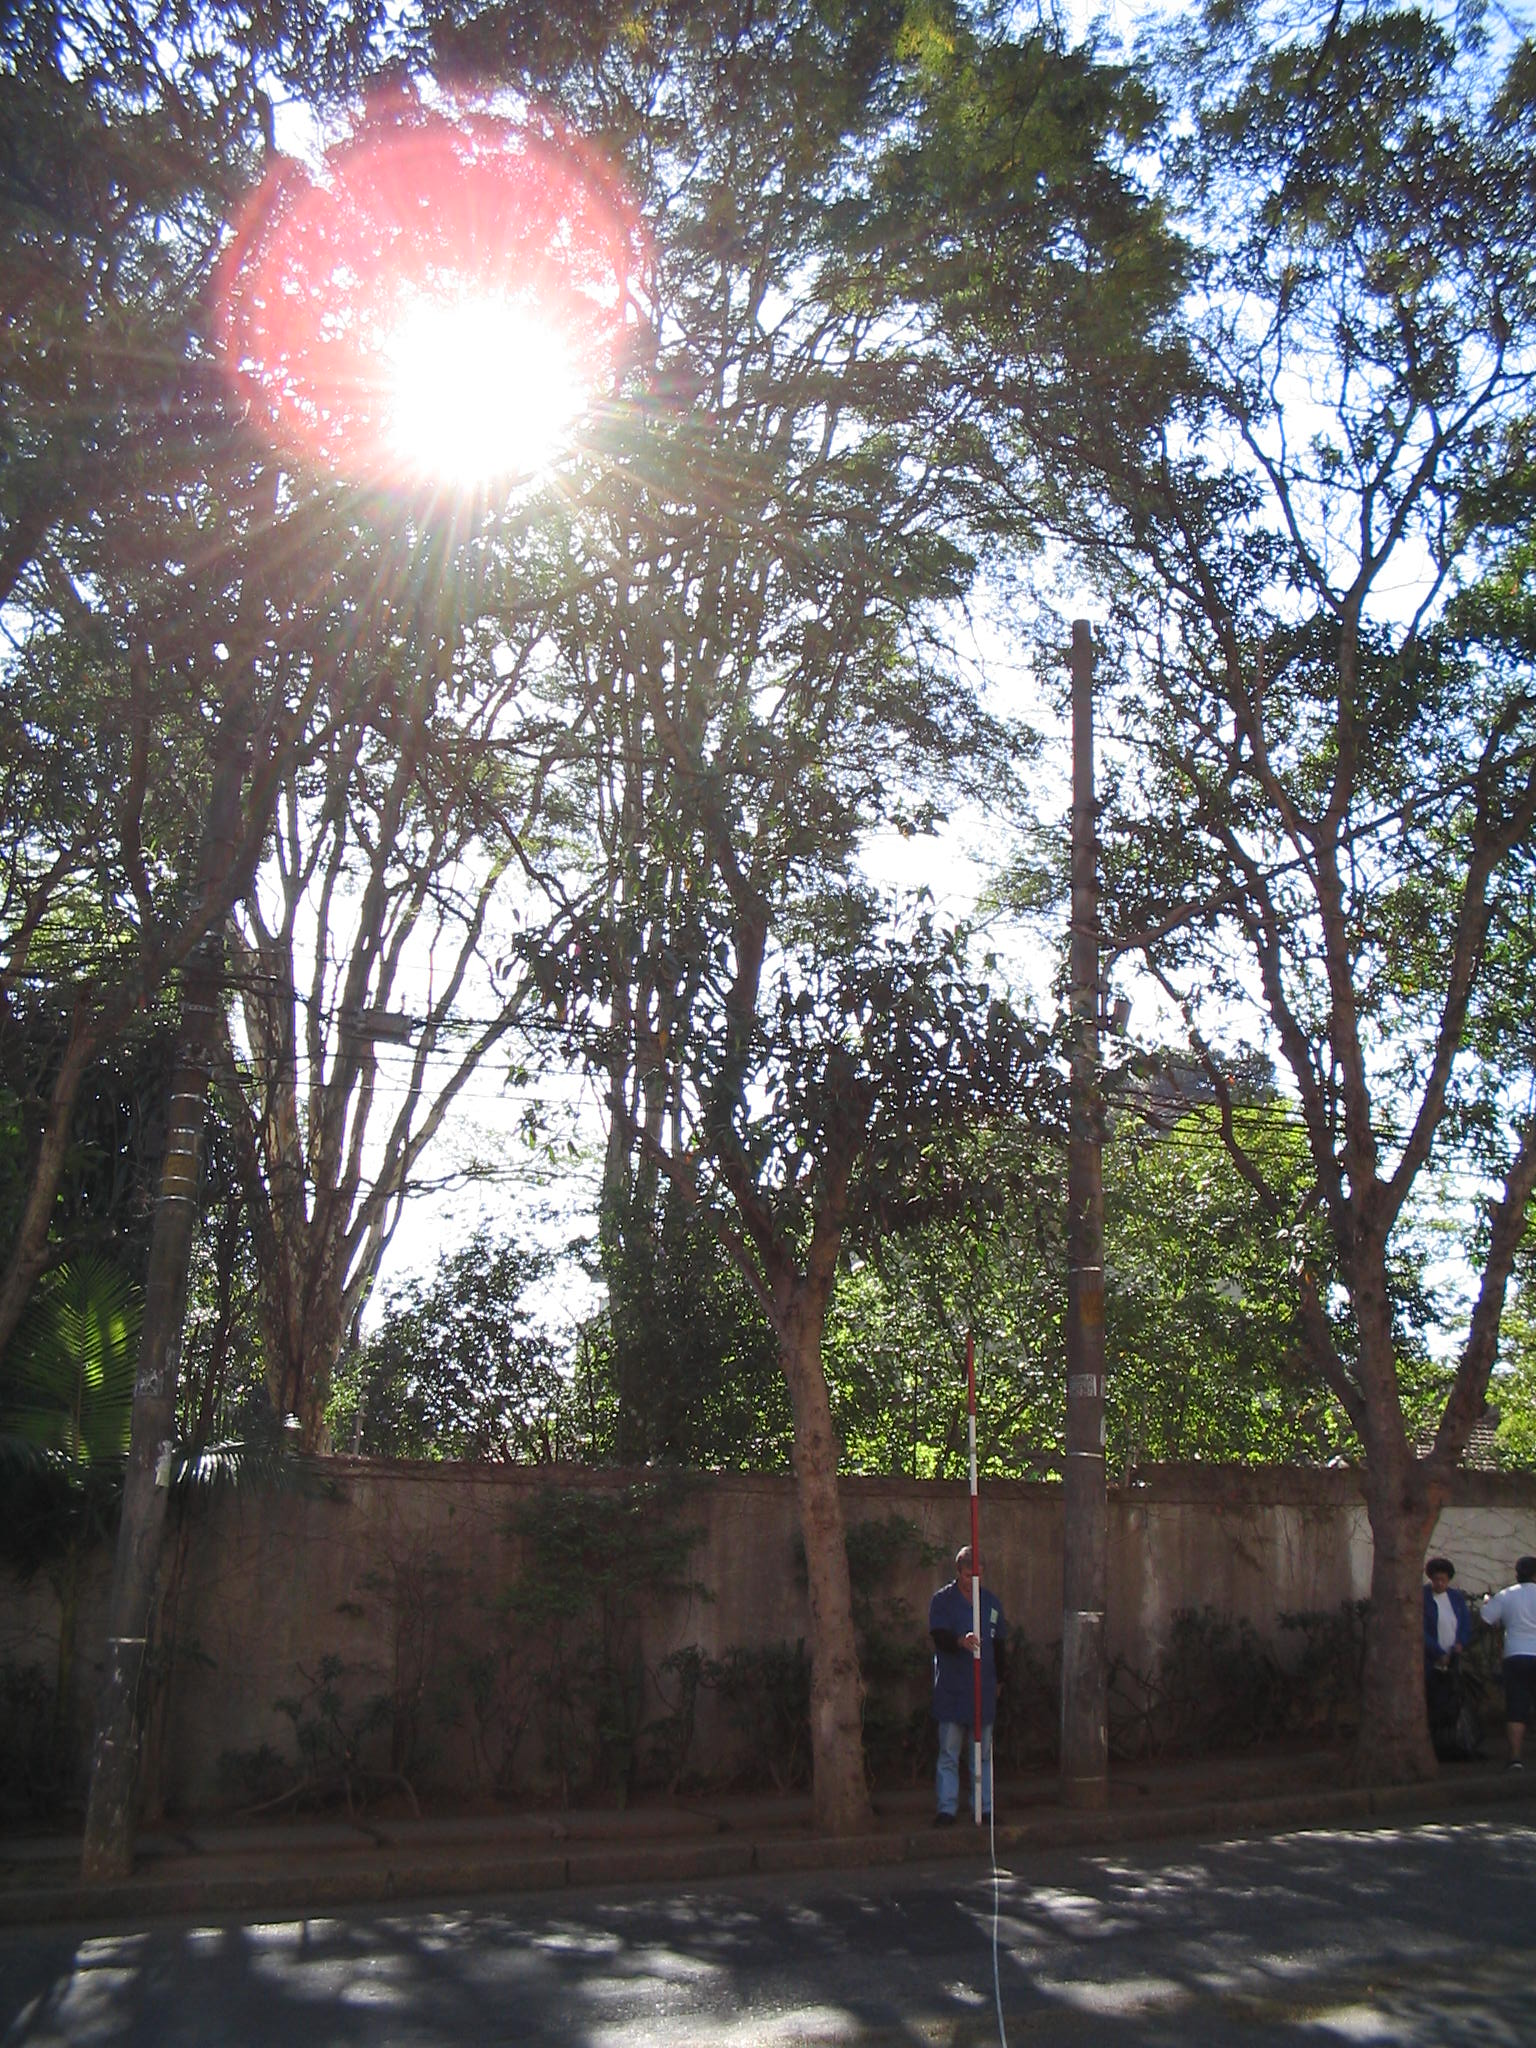stem: (716, 1271, 920, 1825), (1310, 1505, 1460, 1787)
stick: (947, 1332, 991, 1825)
tree: (339, 2, 1241, 1825), (1102, 24, 1531, 1787)
